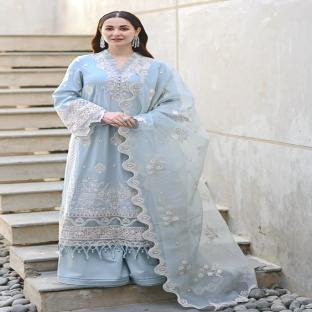Human: (53, 11, 256, 310)
